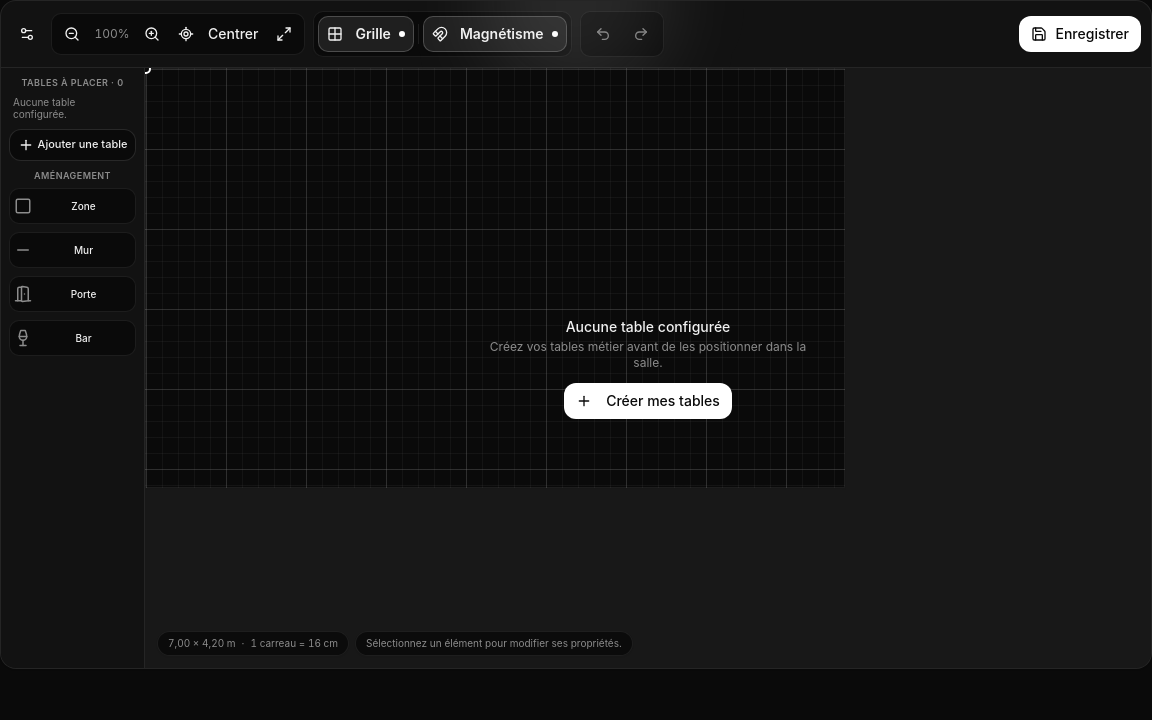
Test case: FloorPlanCanvas — édition du plan › crée une table métier à placer depuis la palette
expect the text "Aucune table configurée" is shown: met, box [566,317,730,337]
Click the button "Ajouter une table". click: (72, 144)
box: [9,128,136,160]
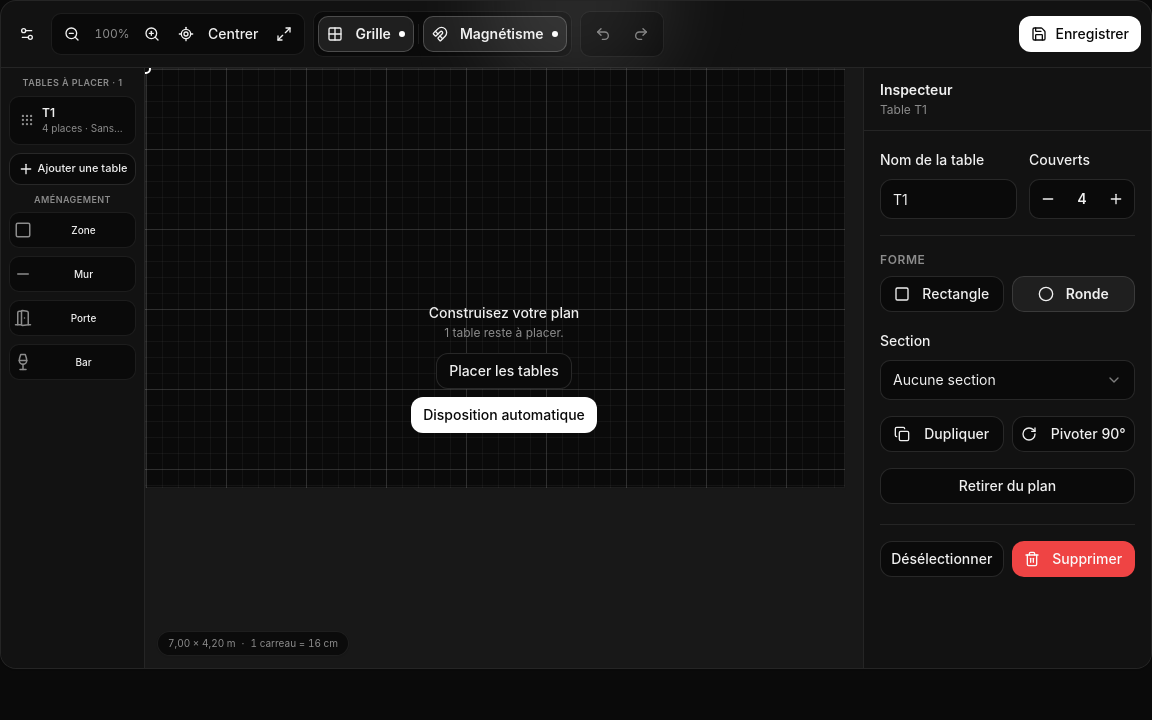
expect the text "Table T1" is shown: met, box [880,102,927,117]
expect the heading "Tables à placer · 1" is shown: met, box [22,77,122,88]
